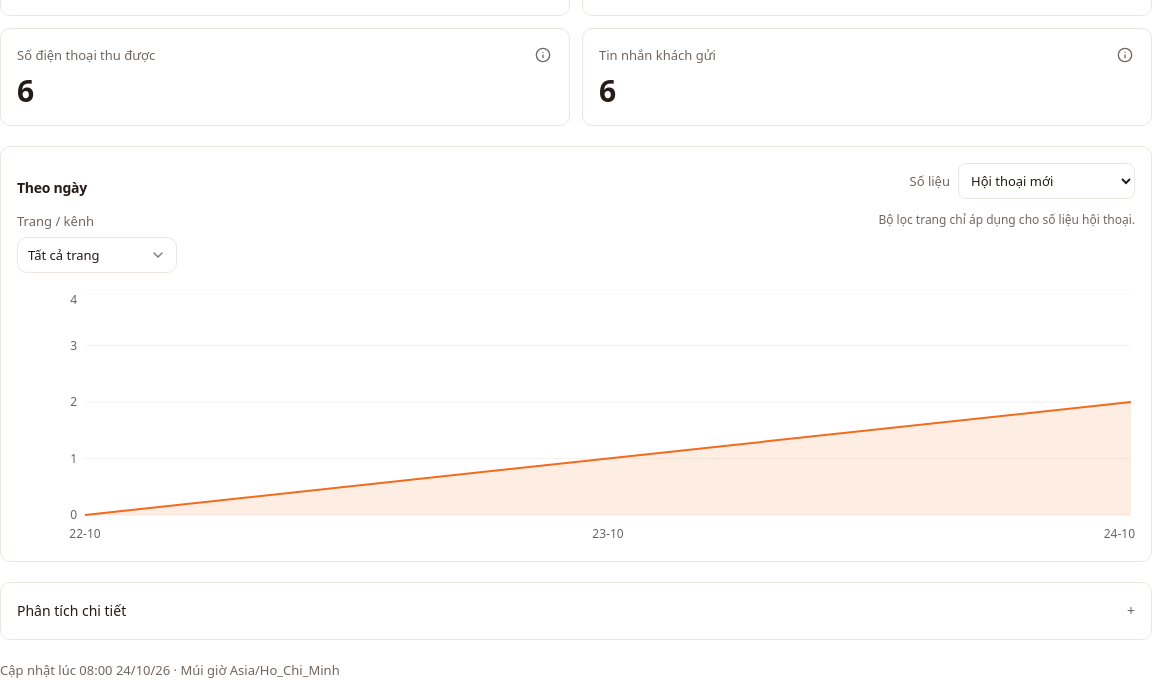
it: StatisticsPage › a locked number is shown as locked, not as 0
(page scrolled)
Click the button "Phân tích chi tiết +" at [72, 610], box [1,583,1151,639]
(page scrolled)
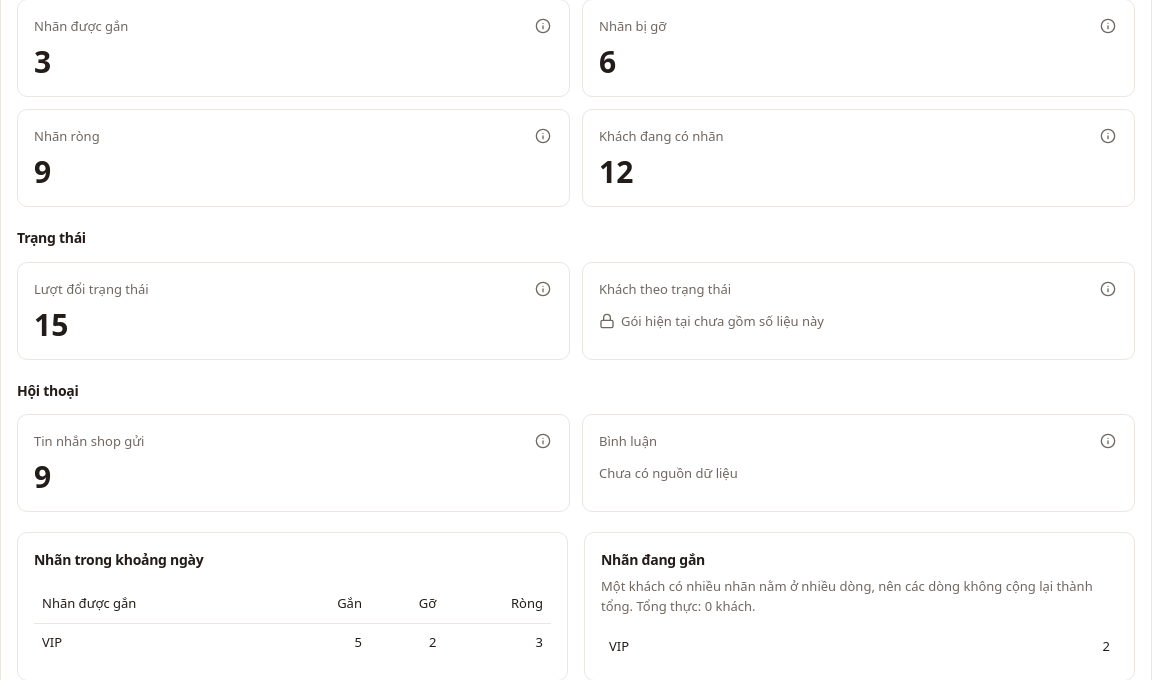
Check: the text "Gói hiện tại chưa gồm số liệu này" is shown, box [599,312,824,330]
